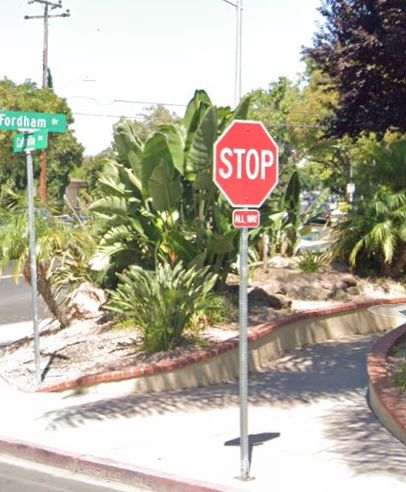stop_sign: (213, 120, 277, 207)
